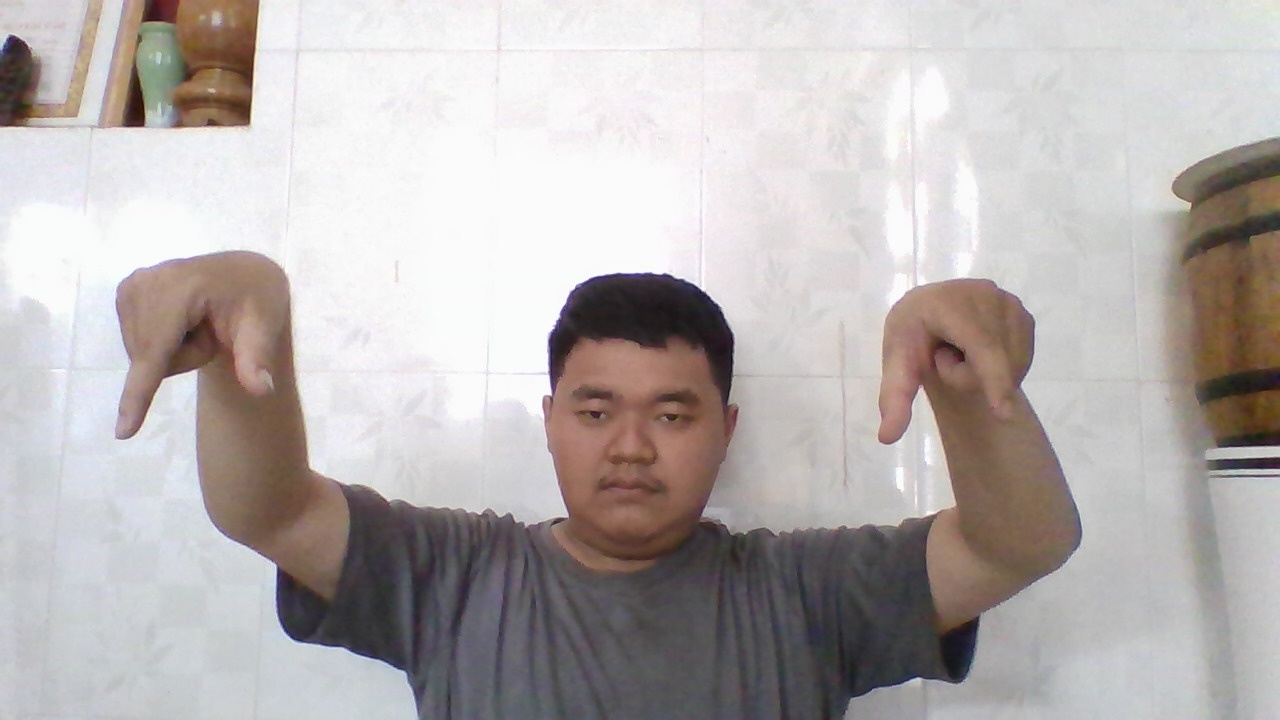Q: (106, 257, 282, 446), (869, 274, 1041, 448)
